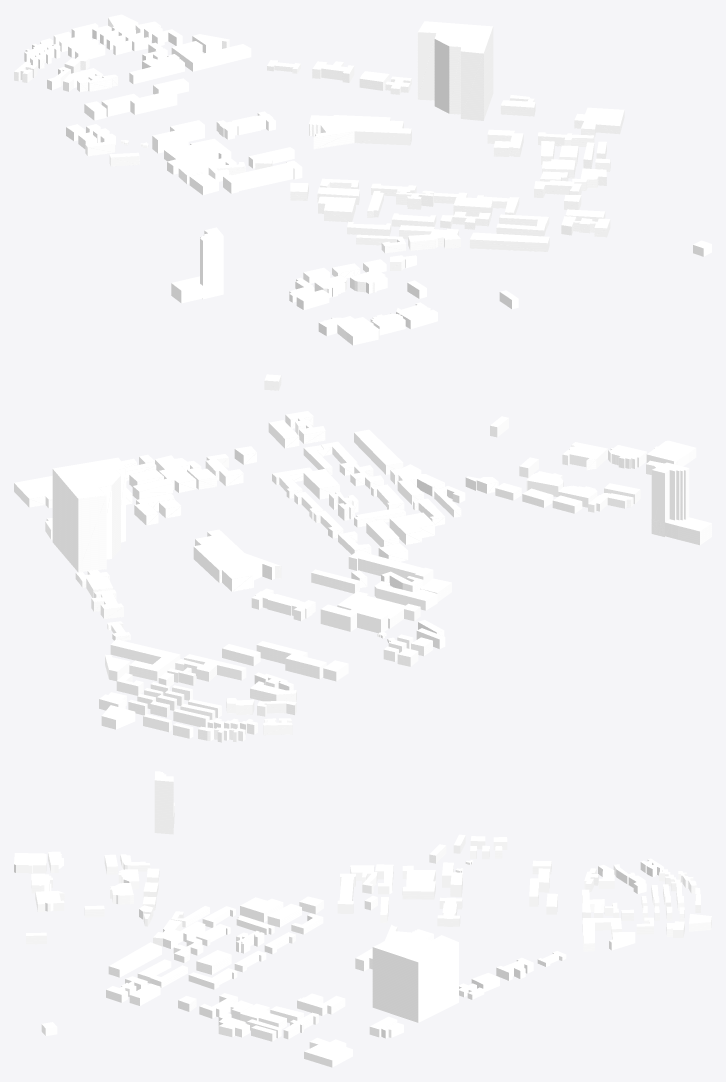
Rendered from buildings.glb.
3 renders of one model, top to bottom at view 1: azimuth 30°, elevation 25°; view 2: azimuth 150°, elevation 25°; view 3: azimuth 270°, elevation 25°, orthographic. The views are drawn at different scales.
Parts seen in each view (by area): view 1: campus-buildings; view 2: campus-buildings; view 3: campus-buildings.
Boxes of the visible parts, x1,y1,x2,y2 form: campus-buildings: (14, 14, 711, 345); campus-buildings: (14, 374, 711, 742); campus-buildings: (14, 771, 711, 1067).
Size of the model in its own units: 1018 by 141 by 1266.
Materials: 1 (1 with a texture image).
